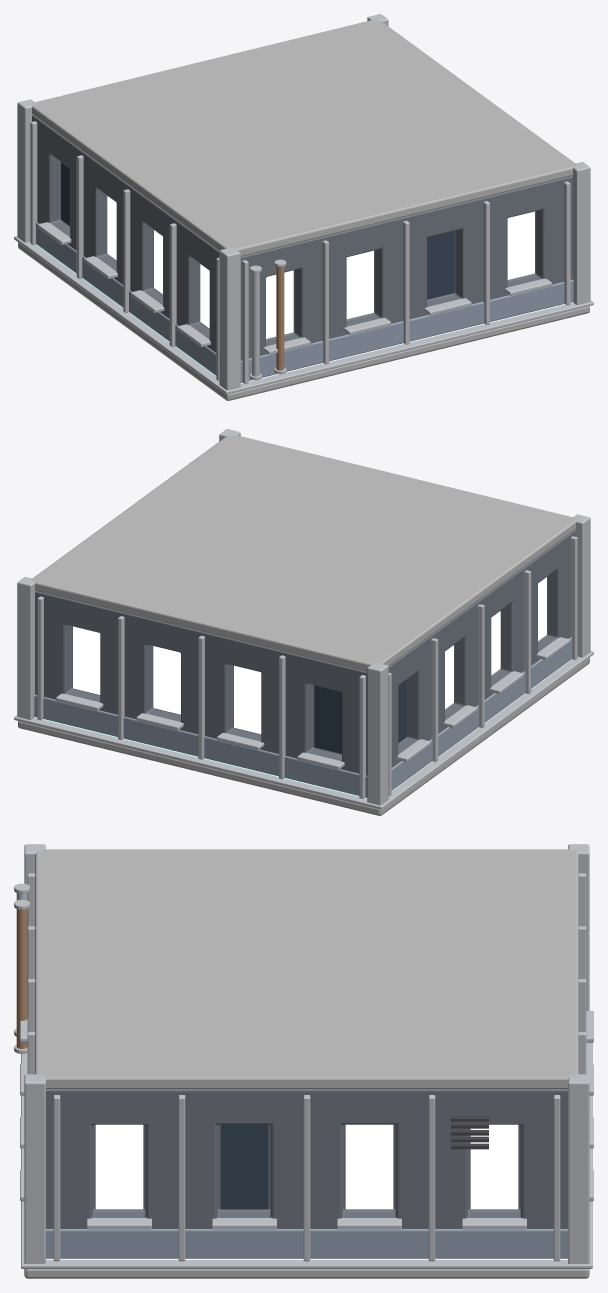
File: office_5x5_c.glb
3 renders of one model, top to bottom at view 1: azimuth 30°, elevation 25°; view 2: azimuth 150°, elevation 25°; view 3: azimuth 270°, elevation 25°, orthographic. The views are drawn at different scales.
Visible parts, largest first — view 1: int_ceiling, ext_wall, ext_frames, ext_spandrel, int_columns, ext_panes_lit, int_slab_edge, int_slab, ext_panes_dark, ext_pipe1, ext_pipe0, int_grid; view 2: int_ceiling, ext_wall, ext_frames, ext_spandrel, int_columns, ext_panes_lit, int_slab_edge, int_slab, ext_panes_dark, int_grid; view 3: int_ceiling, ext_wall, ext_spandrel, ext_frames, ext_panes_lit, int_columns, int_slab_edge, int_slab, ext_panes_dark, ext_pipe1, ext_vent, int_grid.
Boxes of the visible parts, box(x1,y1,x2,y2) form: int_ceiling: box(32, 19, 577, 256); ext_wall: box(32, 115, 572, 360); ext_frames: box(30, 121, 570, 383); ext_spandrel: box(36, 222, 573, 382); int_columns: box(17, 14, 590, 390); ext_panes_lit: box(107, 196, 534, 338); int_slab_edge: box(14, 236, 593, 394); int_slab: box(18, 242, 589, 400); ext_panes_dark: box(61, 162, 454, 299); ext_pipe1: box(276, 266, 284, 370); ext_pipe0: box(252, 272, 259, 376); int_grid: box(36, 244, 573, 383); int_ceiling: box(30, 434, 577, 671); ext_wall: box(35, 530, 575, 775); ext_frames: box(37, 536, 577, 798); ext_spandrel: box(34, 637, 571, 797); int_columns: box(17, 429, 590, 805); ext_panes_lit: box(73, 577, 546, 734); int_slab_edge: box(14, 651, 593, 809); int_slab: box(18, 657, 589, 815); ext_panes_dark: box(314, 679, 407, 753); int_grid: box(34, 659, 571, 798); int_ceiling: box(35, 849, 578, 1088); ext_wall: box(46, 1089, 567, 1228); ext_spandrel: box(46, 1229, 567, 1258); ext_frames: box(20, 873, 593, 1261); ext_panes_lit: box(95, 1124, 518, 1209); int_columns: box(24, 844, 589, 1263); int_slab_edge: box(21, 1042, 592, 1268); int_slab: box(24, 1269, 589, 1278); ext_panes_dark: box(220, 1124, 268, 1209); ext_pipe1: box(16, 909, 27, 1048); ext_vent: box(451, 1116, 488, 1149); int_grid: box(46, 1258, 567, 1259).
Size of the model in its own units: 5.28 by 2 by 5.33.
